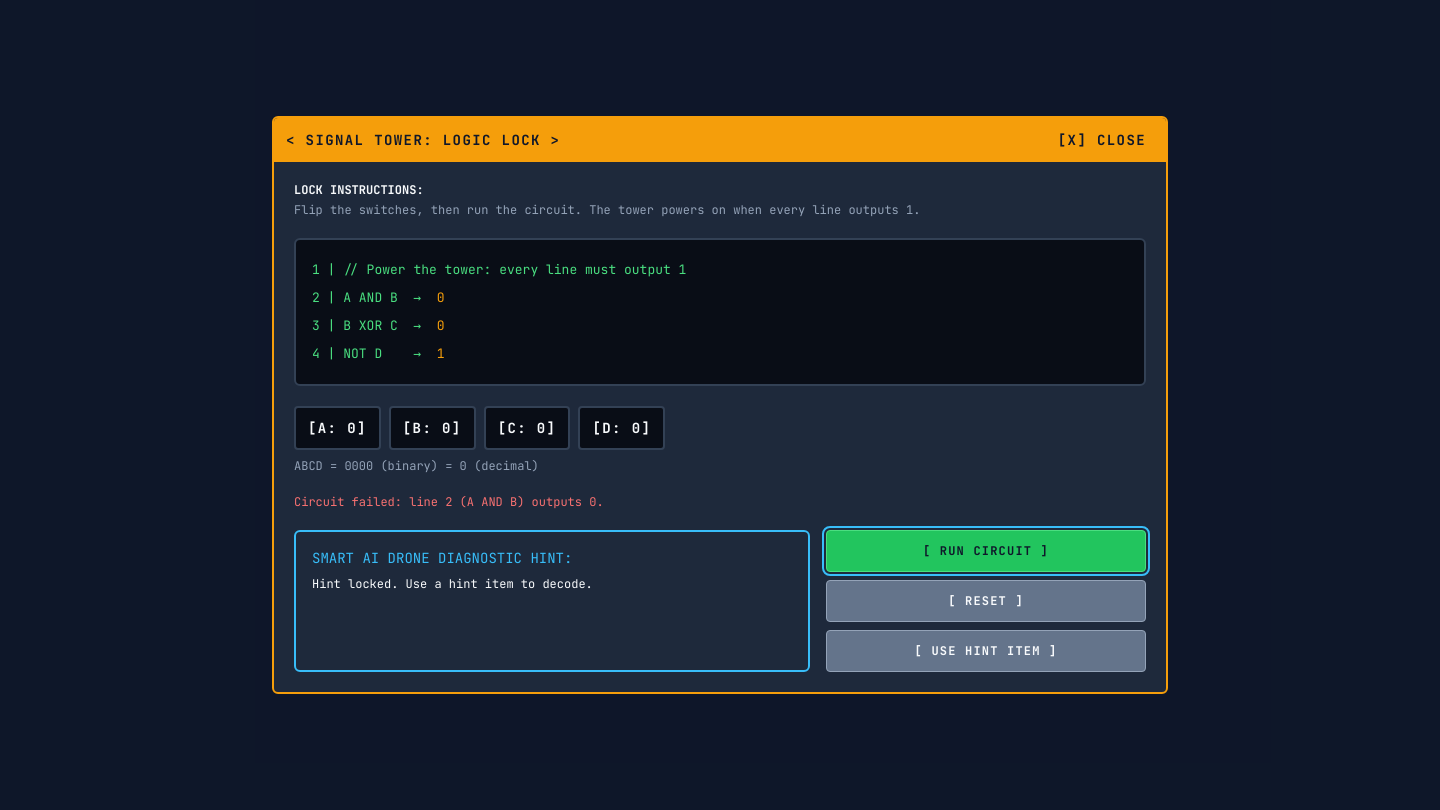
Test case: LogicModal › hides a stale error once a switch changes after the failed run
Earlier steps of the test are not shown.
Expected: the message "Circuit failed: line 2 (A AND B) outputs 0." is shown, [294,494,604,510]
Click the switch labelled "[A: 0]". click: (337, 428)
box: [294,406,381,450]
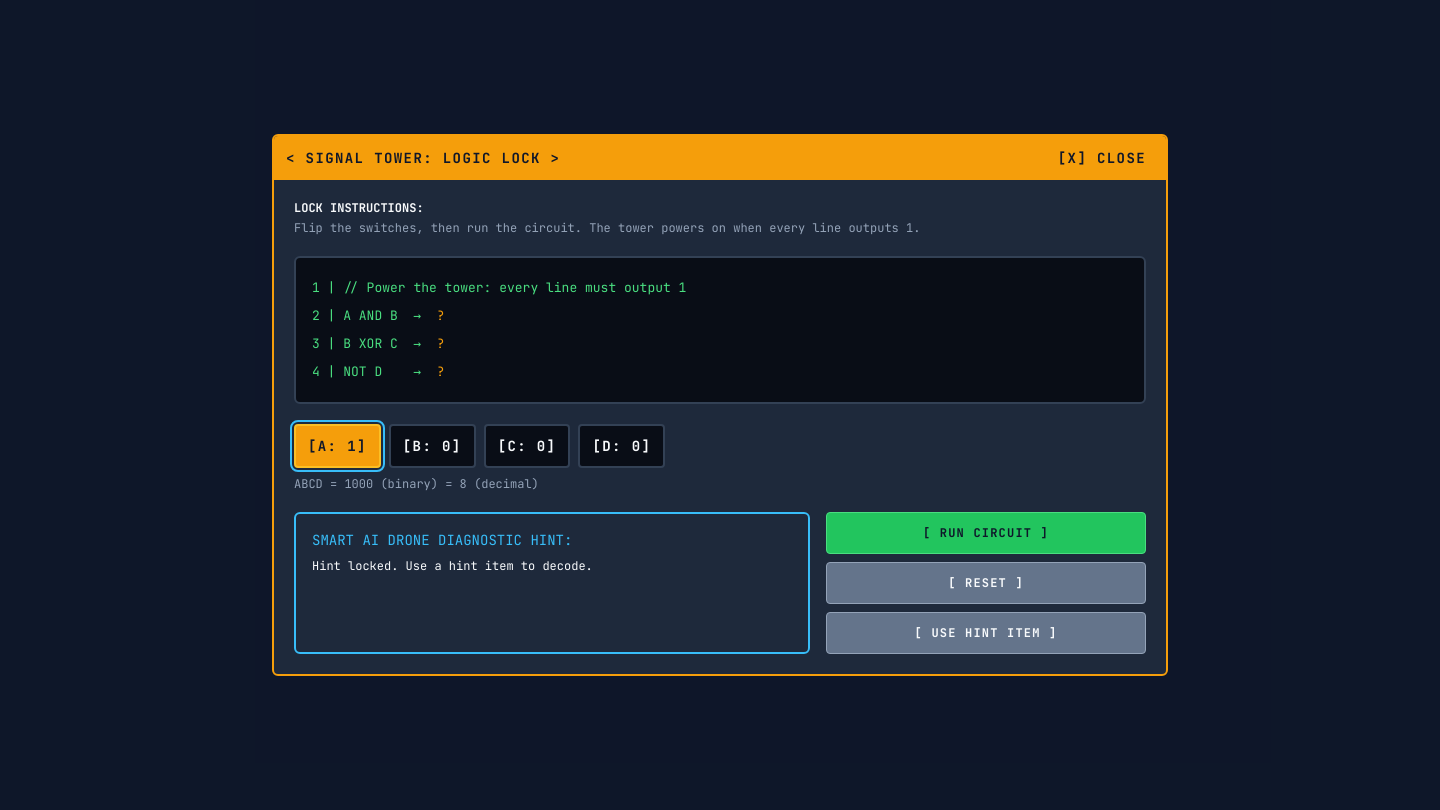
Now the message "Circuit failed: line 2 (A AND B) outputs 0." is gone
